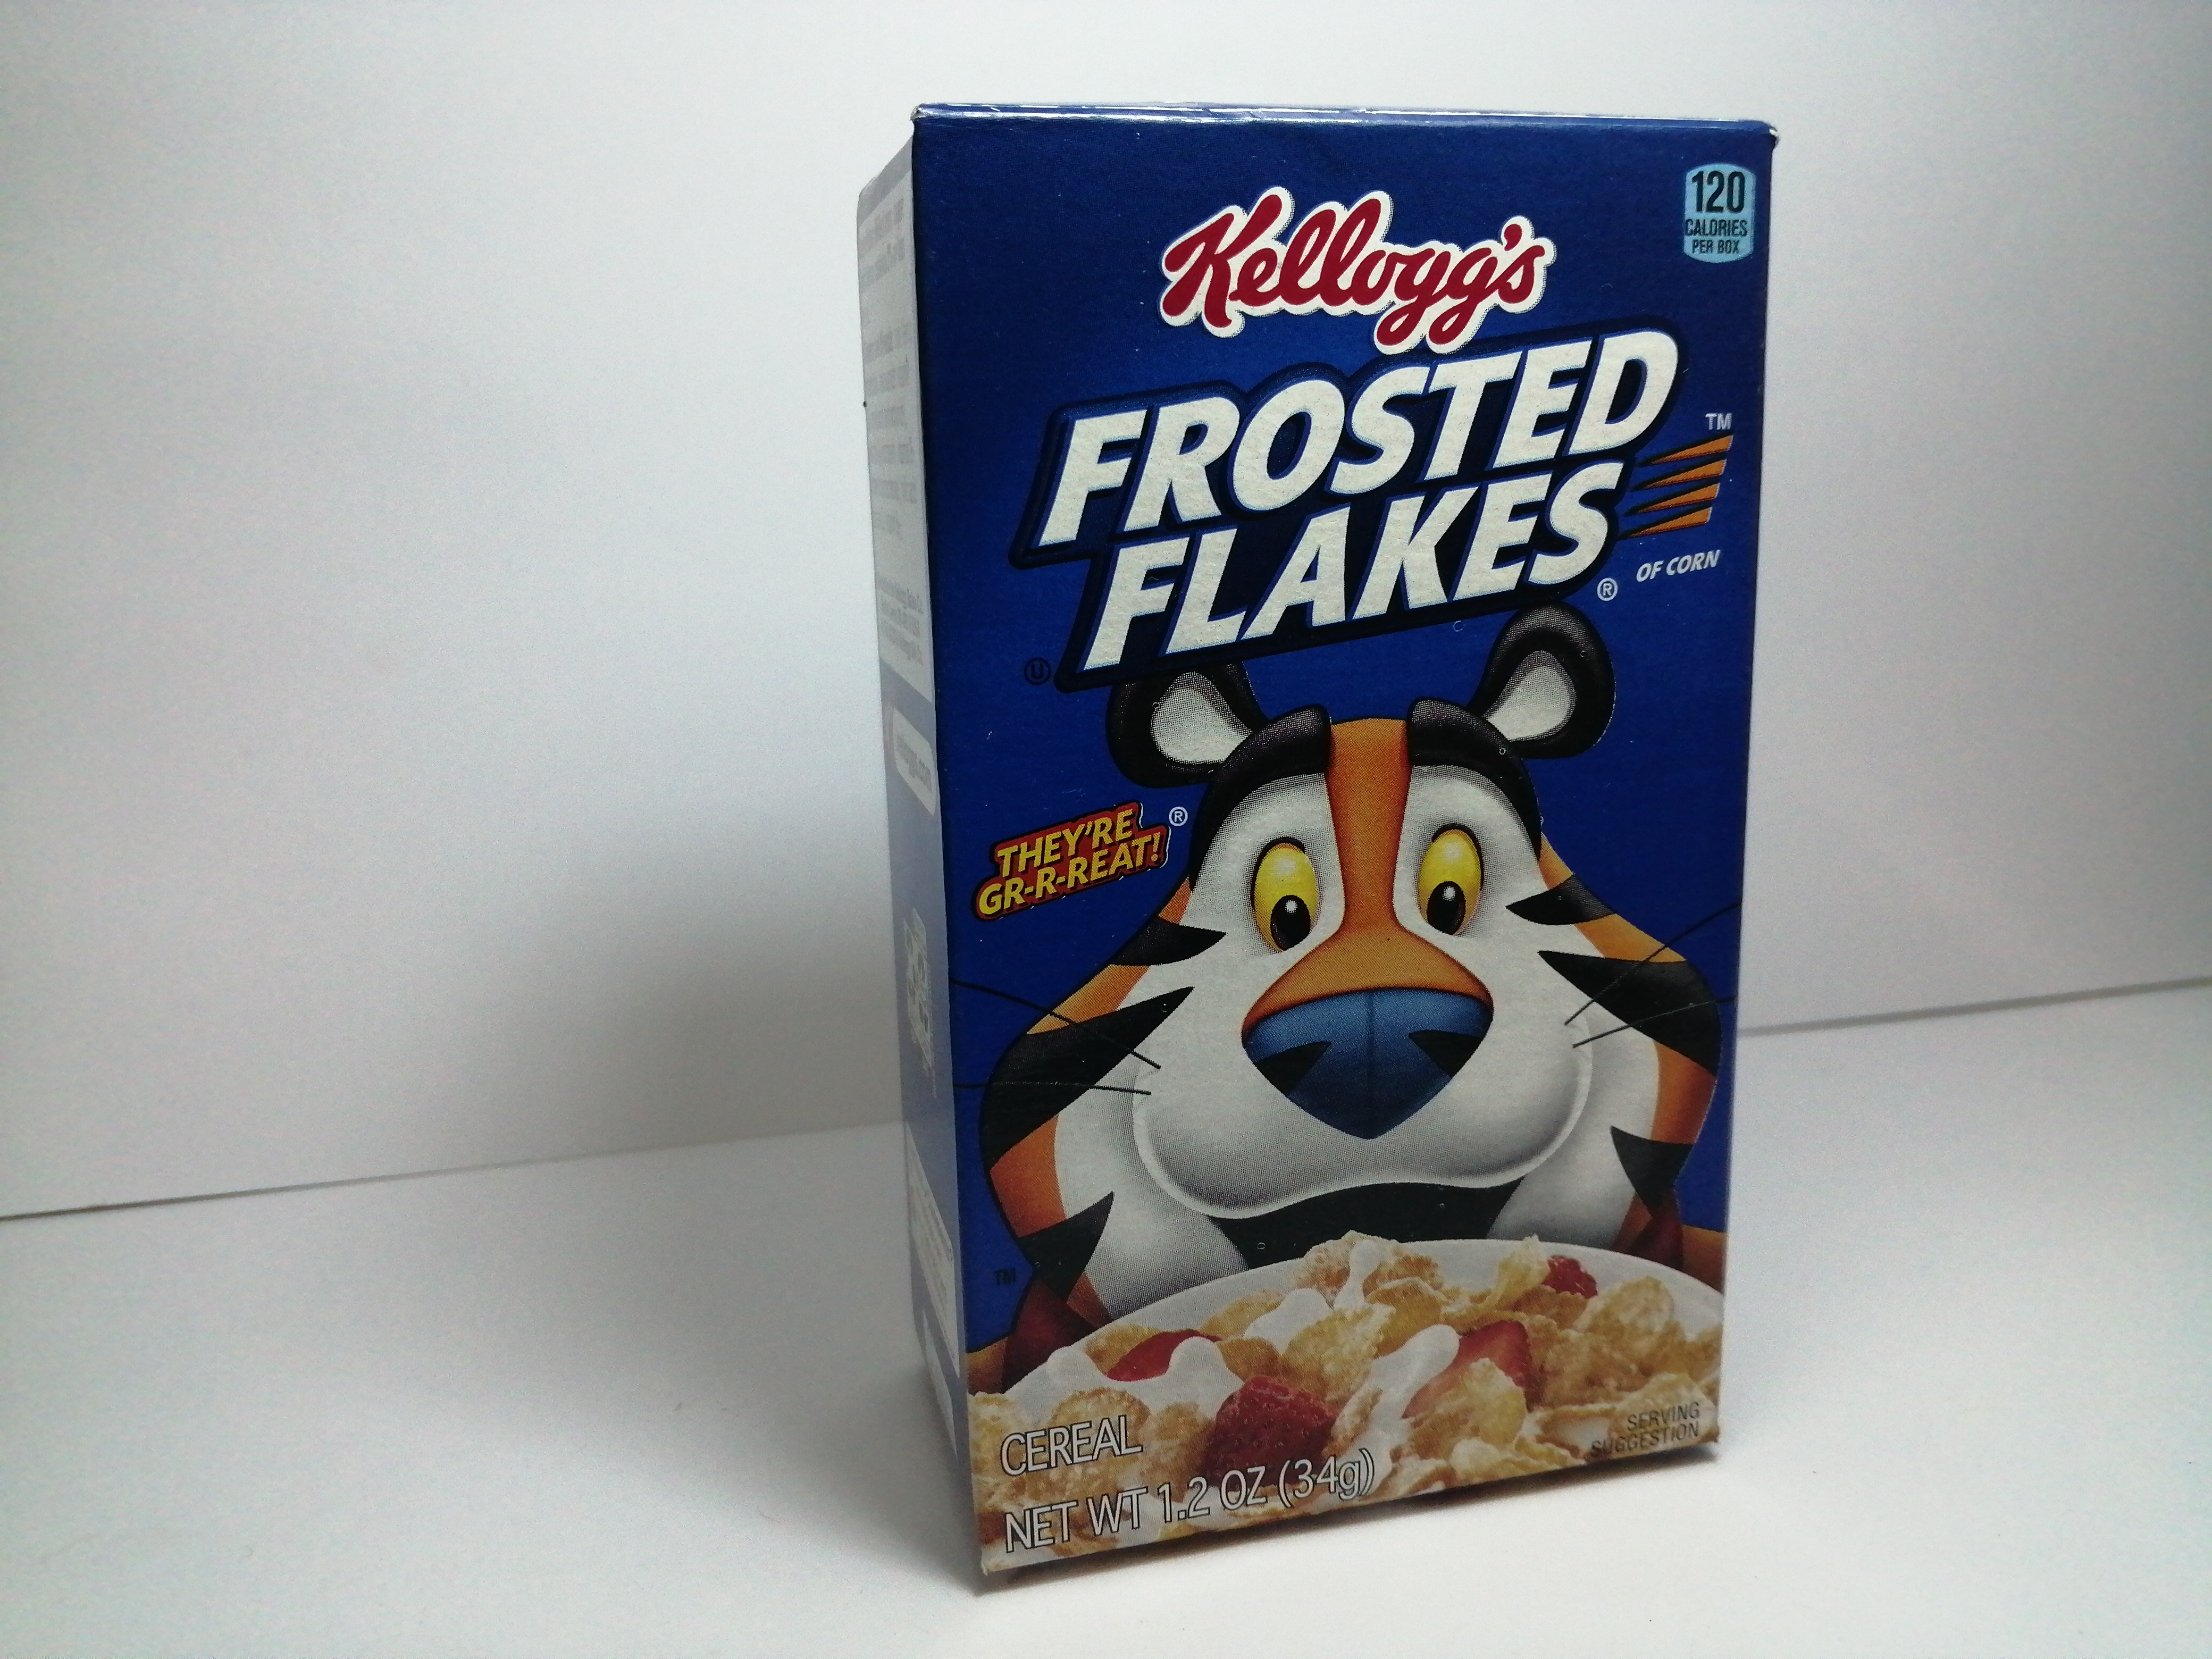cereal azucarado: (799, 56, 1869, 1610)
